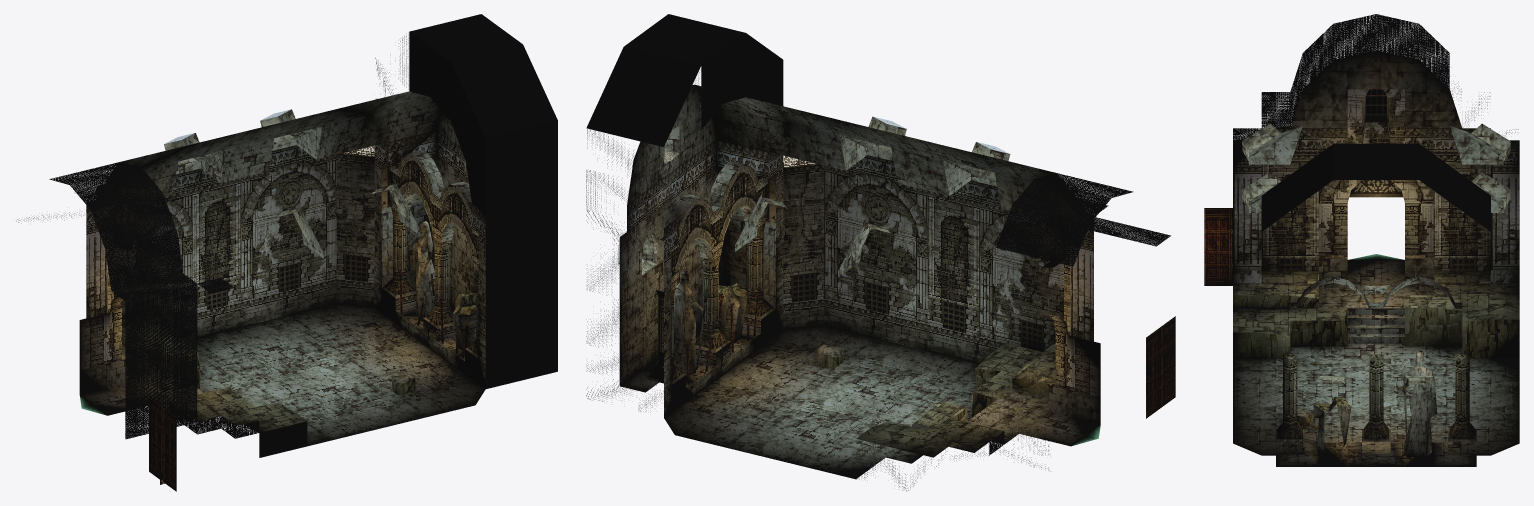
File: MAP060.gltf
The picture shows the model from 3 angles, left to right: view 1: azimuth 30°, elevation 25°; view 2: azimuth 150°, elevation 25°; view 3: azimuth 270°, elevation 25°; orthographic projection. The views are drawn at different scales.
Size of the model in its own units: 230 by 155 by 141.
80 materials, 80 textured.
